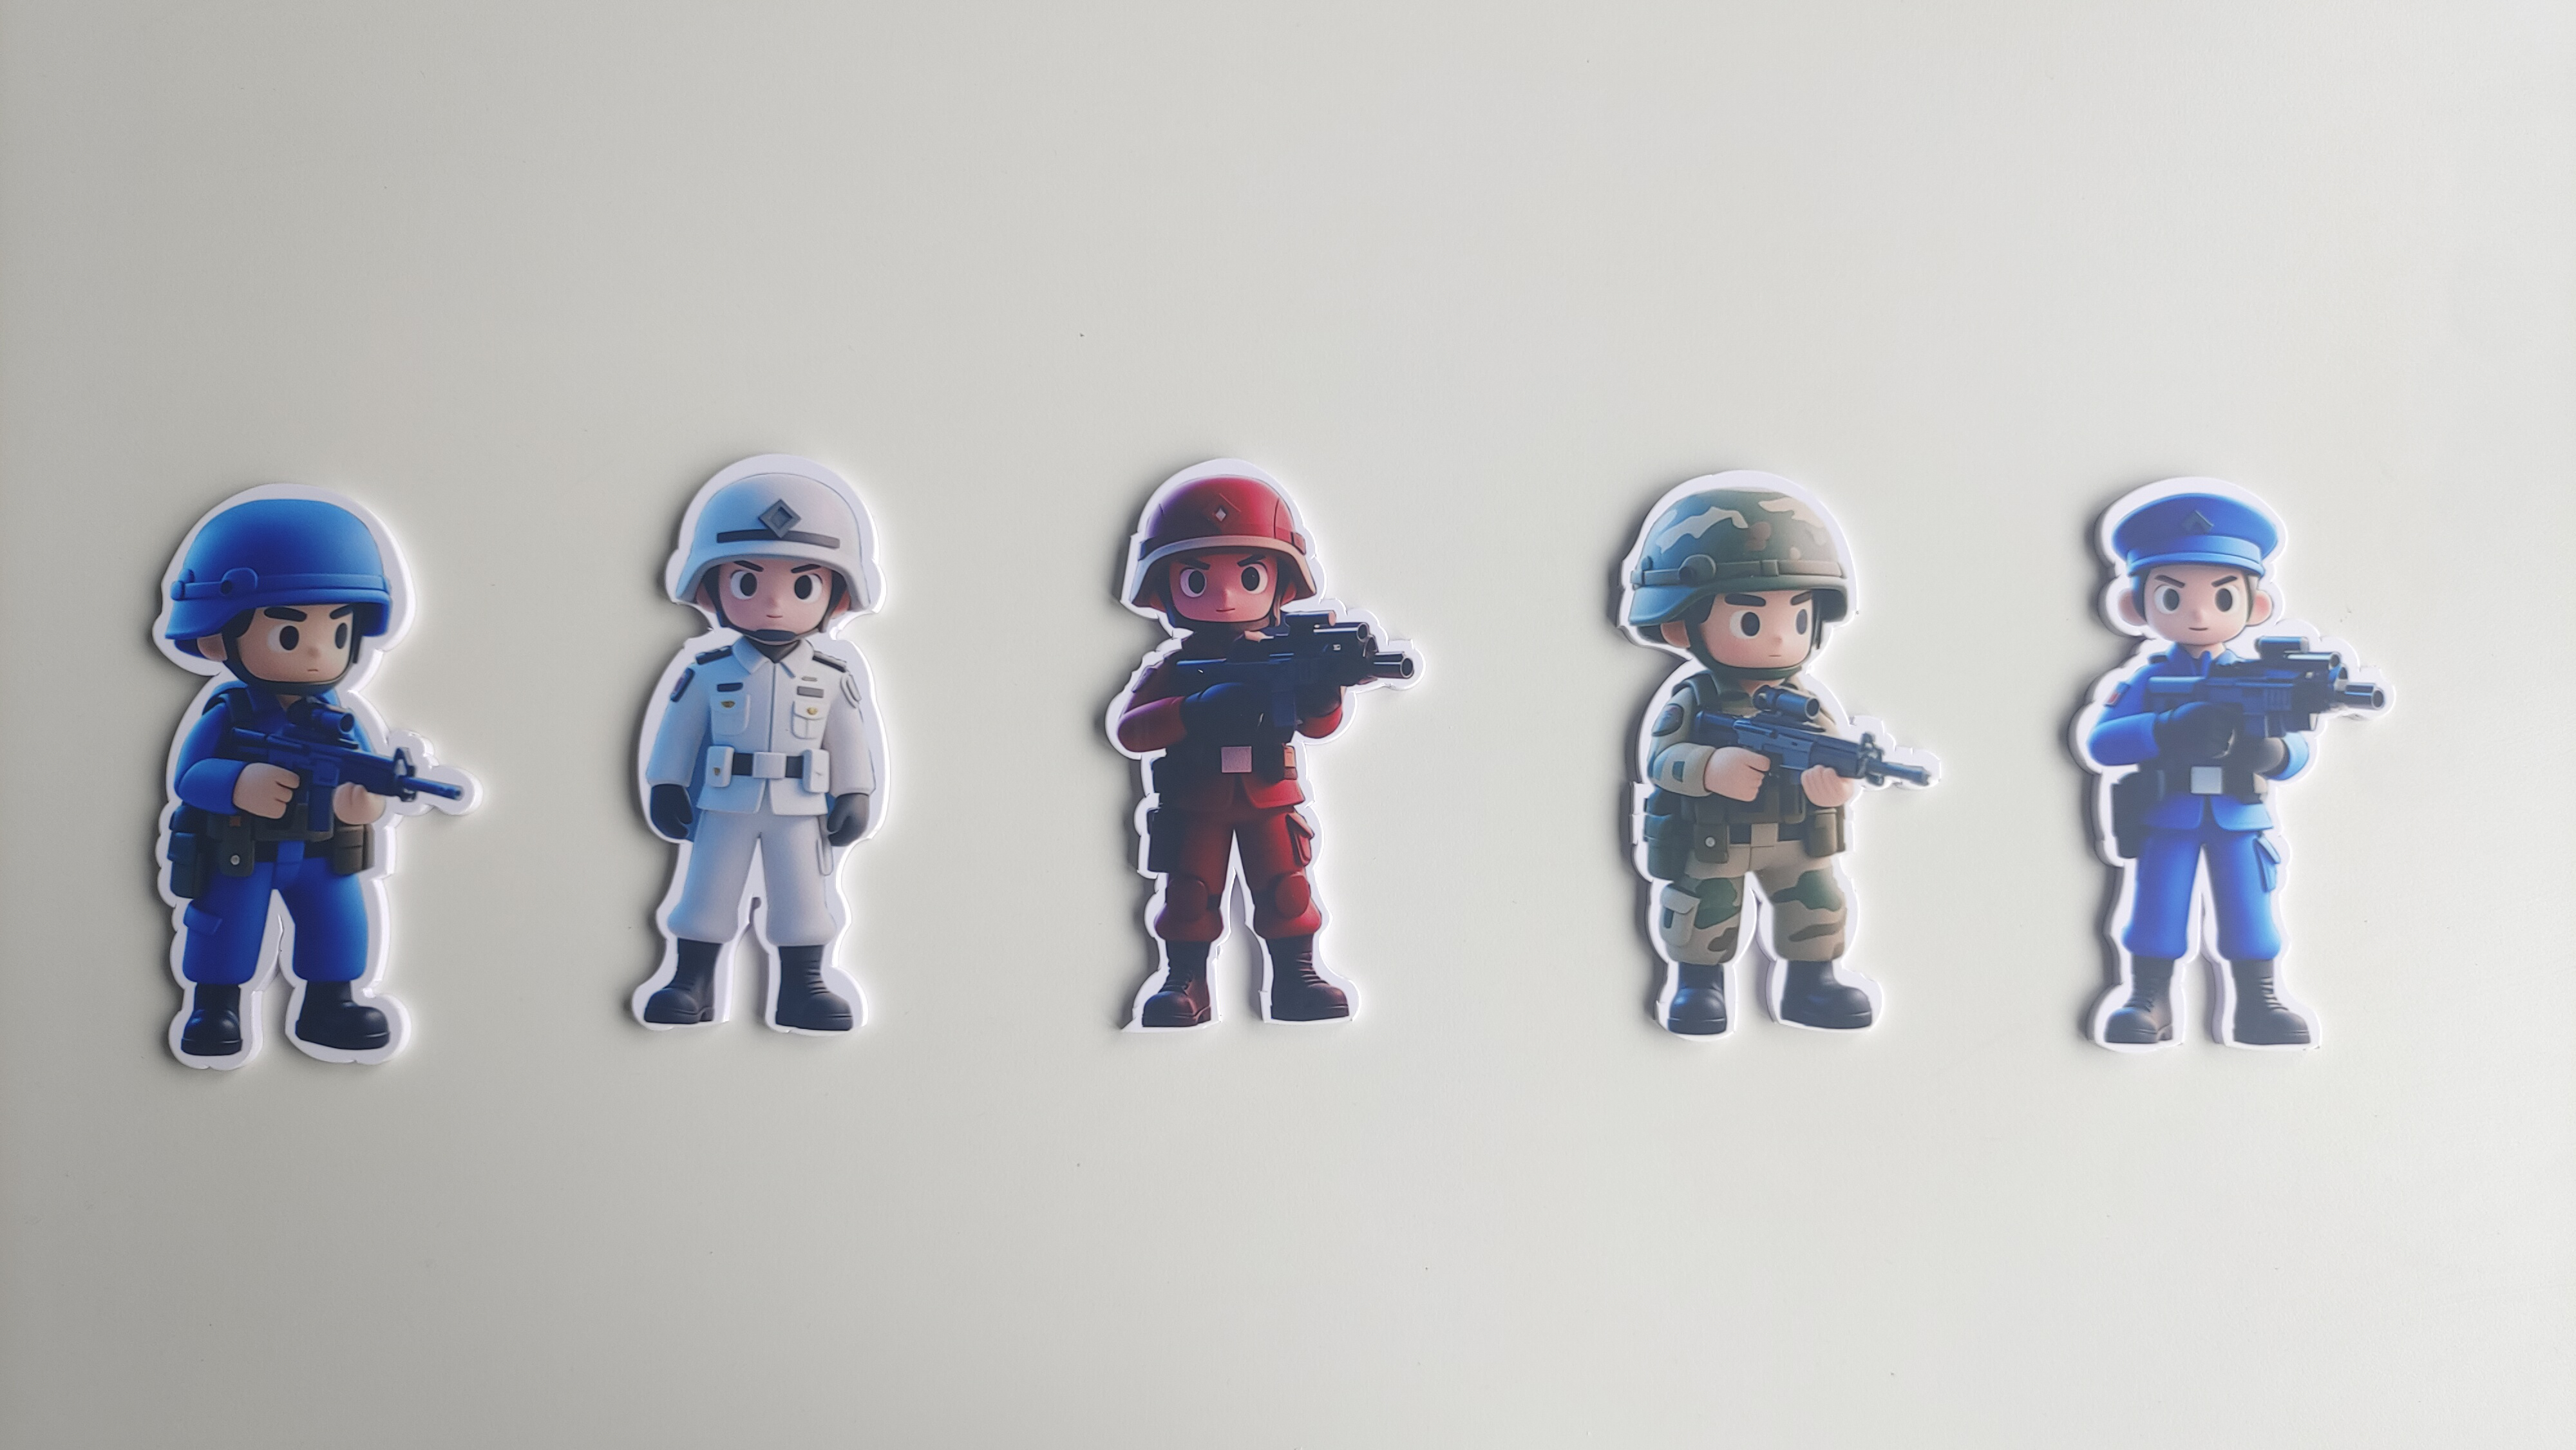enemy1: (1093, 635, 1376, 1038)
enemy2: (2052, 651, 2358, 1065), (145, 690, 409, 1073)
friend: (1615, 677, 1909, 1054)
hostage: (630, 644, 888, 1042)
